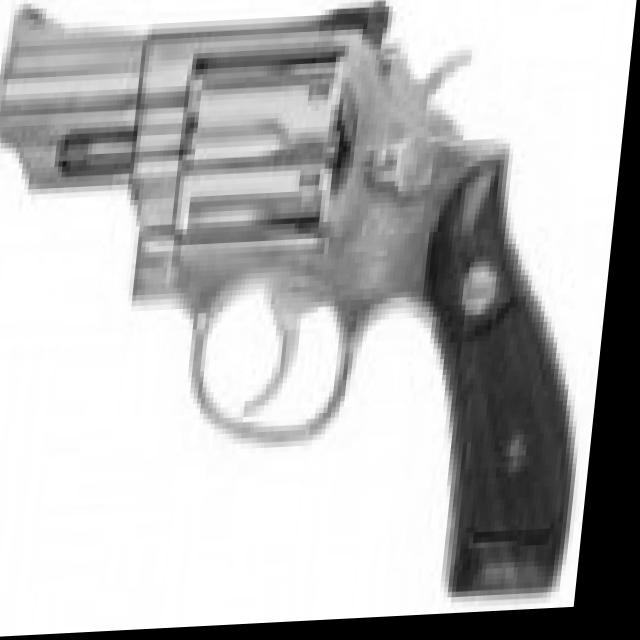handgun: (0, 0, 616, 613)
